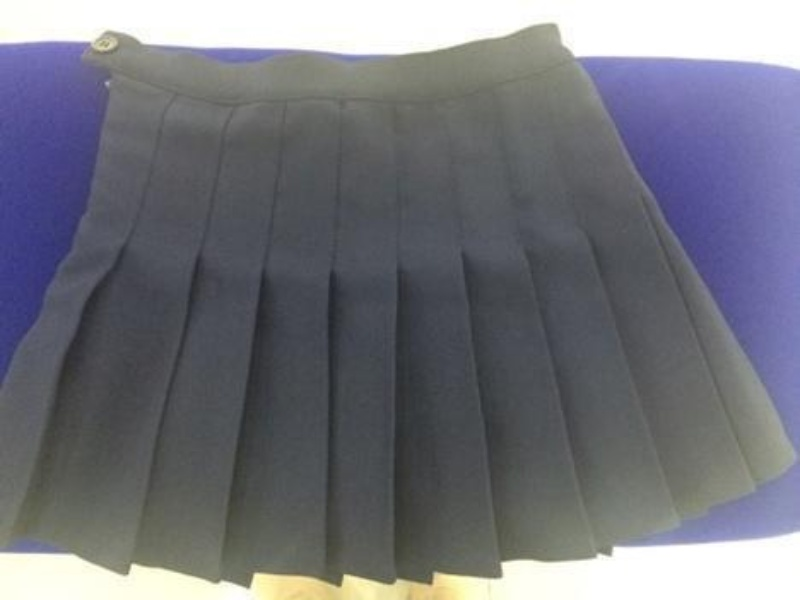skirt: (0, 22, 798, 595)
